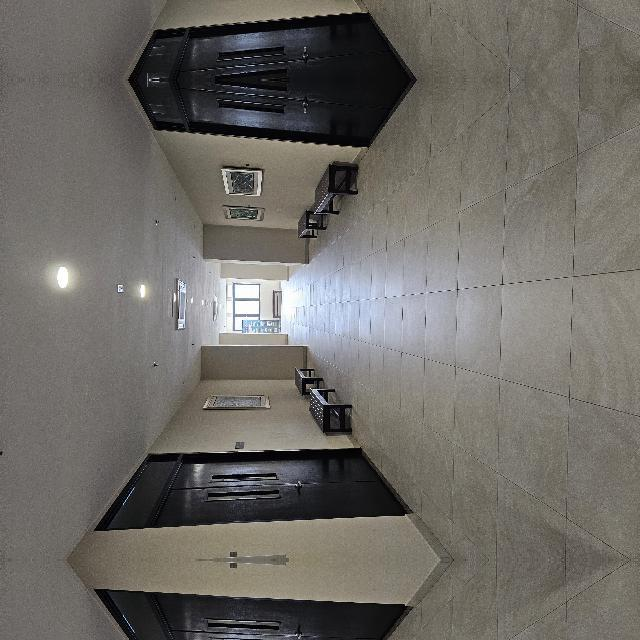door: (23, 229, 117, 469), (420, 255, 480, 493), (420, 627, 479, 640)
obstacle: (340, 392, 404, 440), (125, 388, 172, 432)
